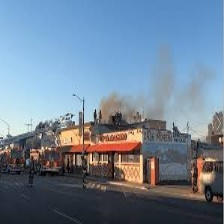smoke: (99, 56, 203, 124)
